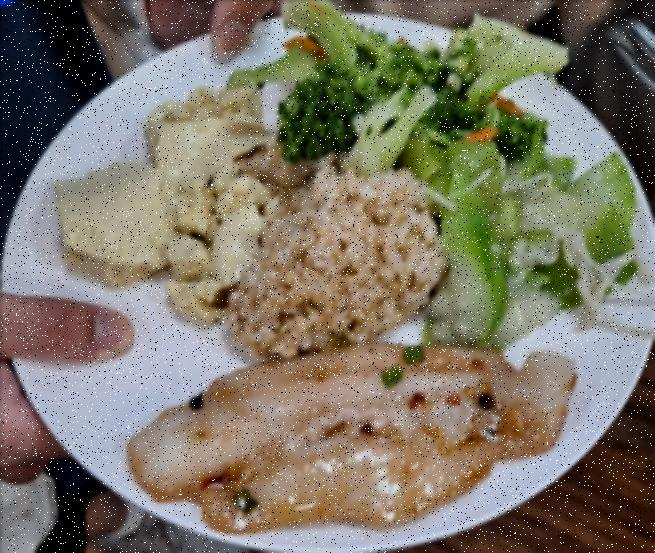braised fish fillet: (113, 346, 580, 536)
brown rice: (240, 162, 439, 359)
plate: (2, 10, 655, 552)
side dish: (48, 74, 276, 321), (233, 0, 572, 162), (408, 122, 636, 350)
